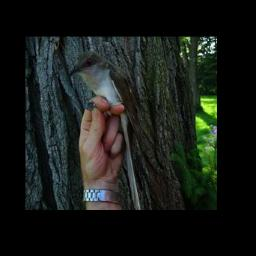Cuckoo: (66, 49, 147, 209)
